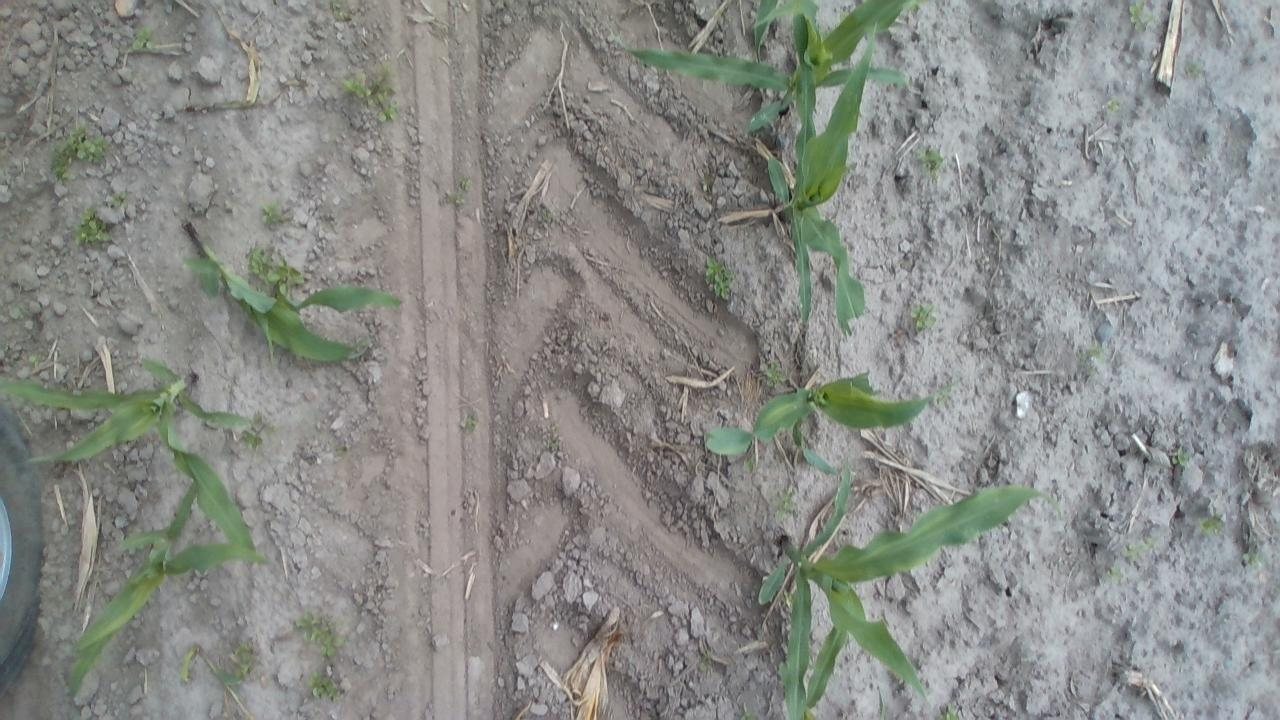Maize: (754, 454, 1048, 719), (0, 350, 266, 570), (64, 484, 270, 712), (621, 0, 926, 130), (761, 20, 880, 338), (173, 229, 410, 361), (702, 370, 938, 479), (180, 22, 282, 120), (180, 637, 262, 720), (749, 0, 794, 55), (874, 685, 888, 720)
Weeds: (342, 61, 403, 126), (47, 126, 112, 181), (247, 246, 306, 300), (293, 608, 350, 662), (701, 254, 738, 304), (71, 207, 114, 250), (228, 641, 262, 683), (1076, 338, 1106, 382), (912, 144, 946, 180), (1194, 506, 1228, 542), (306, 670, 344, 702), (772, 484, 801, 524), (255, 199, 292, 230), (242, 414, 272, 451), (1126, 0, 1157, 34), (444, 174, 474, 209), (756, 358, 788, 390), (908, 300, 938, 334), (129, 26, 162, 54), (541, 424, 564, 456), (694, 648, 719, 676), (1239, 546, 1264, 571), (1169, 446, 1193, 472), (108, 190, 136, 212), (1184, 55, 1206, 83), (534, 203, 556, 229), (936, 378, 956, 406), (328, 0, 350, 24), (1106, 566, 1128, 590), (1102, 95, 1126, 117), (459, 410, 479, 435), (937, 703, 966, 720), (329, 441, 351, 461), (1122, 542, 1142, 564), (741, 453, 759, 474), (1142, 532, 1159, 552), (736, 704, 754, 719), (27, 354, 41, 370)
